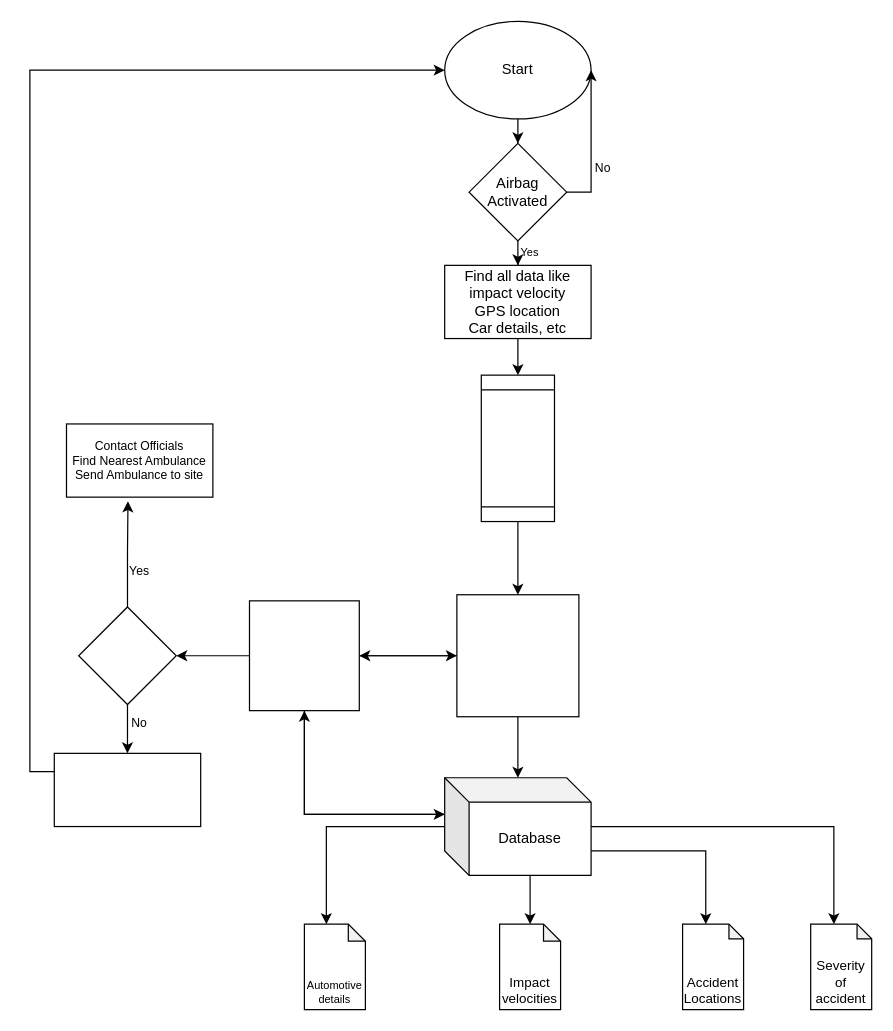
This 893x1031 diagram has some shape labels left out. The shapes that lost their labels are listed below. From the top down, each one's centre as x and y in pixels, then its label:
At point (517, 448): "send to server using some transmission method".
At point (126, 655): "Requires Ambulance?".
At point (303, 655): "Analysis Processors".
At point (517, 655): "SERVER".
At point (127, 789): "No action Record details in database".
